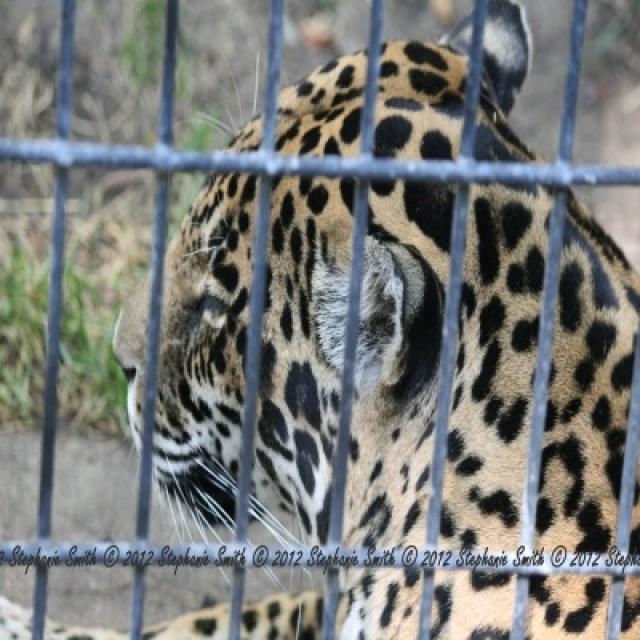Jaguar: (86, 30, 636, 638), (271, 28, 532, 223)
